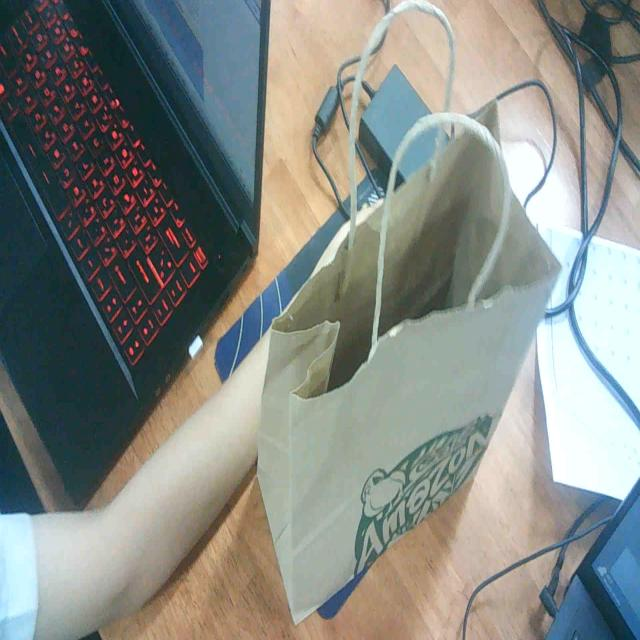bag: (237, 69, 587, 635)
